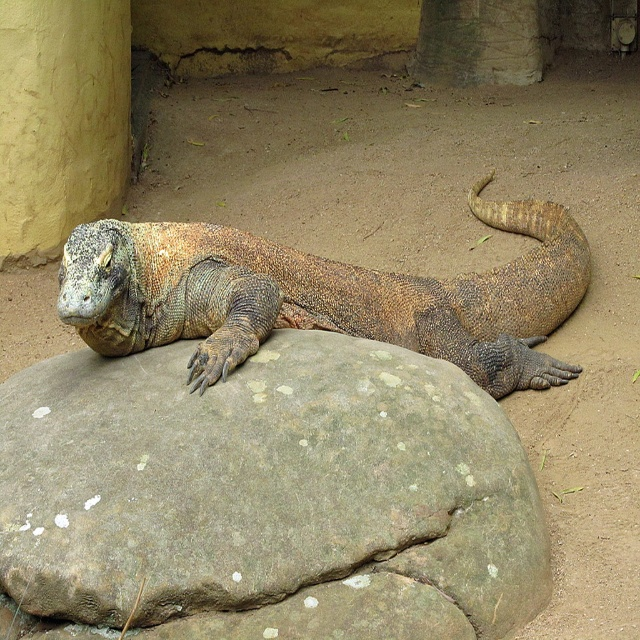Lizard: (56, 167, 591, 399)
